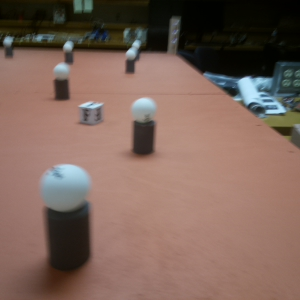obstacle: (39, 162, 93, 272), (130, 96, 156, 155), (53, 63, 71, 100), (62, 41, 76, 64), (124, 49, 136, 75), (4, 36, 15, 58), (133, 40, 141, 59)
